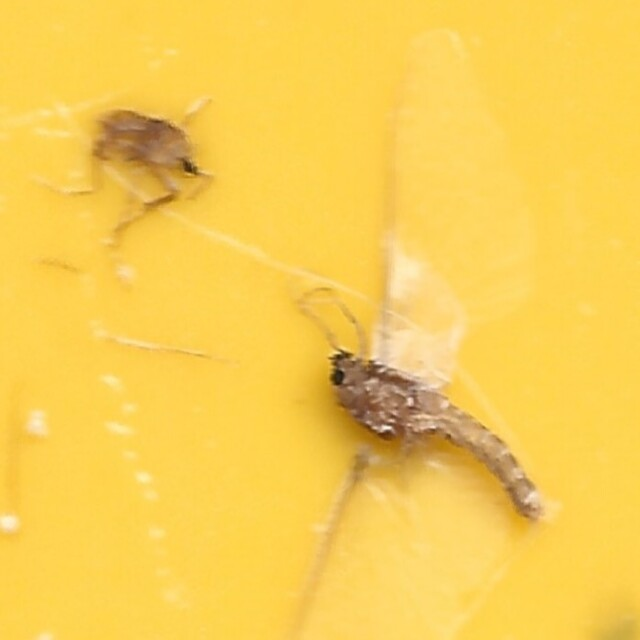Ephemeroptera: (323, 338, 549, 529)
Nematocera: (91, 111, 210, 185)
